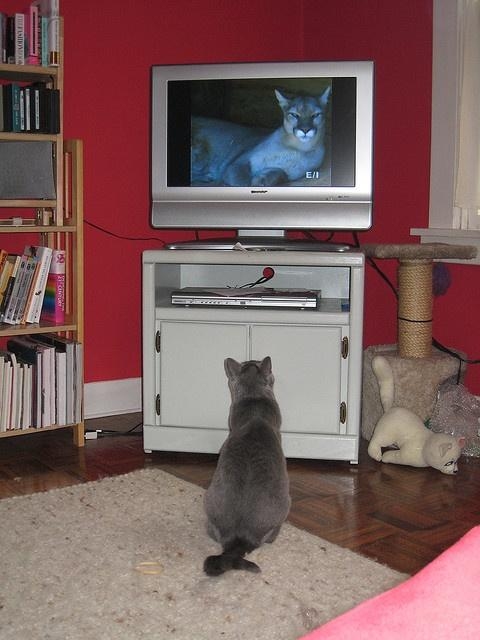AIO PC-Monitor-TV: (147, 57, 373, 230)
Rak: (0, 0, 84, 447)
